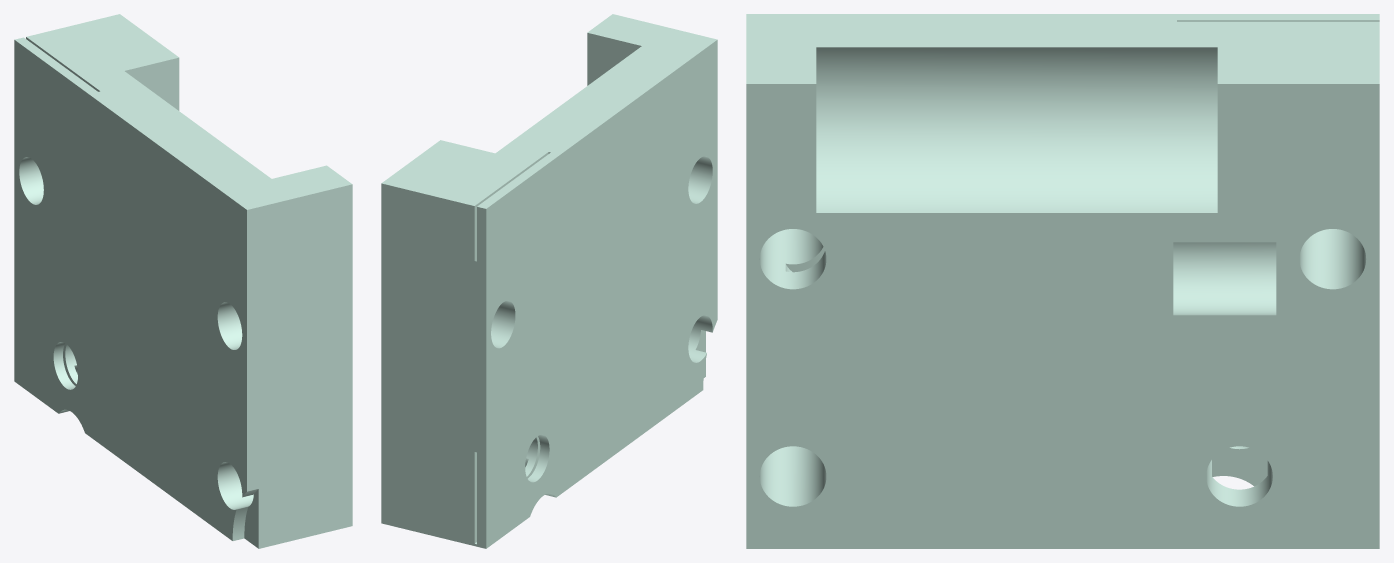
3 renders of one model, left to right at view 1: azimuth 30°, elevation 25°; view 2: azimuth 150°, elevation 25°; view 3: azimuth 270°, elevation 25°, orthographic. The views are drawn at different scales.
Parts seen in each view (by area): view 1: Renderer Node; view 2: Renderer Node; view 3: Renderer Node.
Part boxes in pixels (x1,y1,x2,y2): Renderer Node: (14,14,352,548); Renderer Node: (381,14,717,548); Renderer Node: (746,14,1379,548).
Size of the model in its own units: 0.3516 by 1.09 by 1.34.
